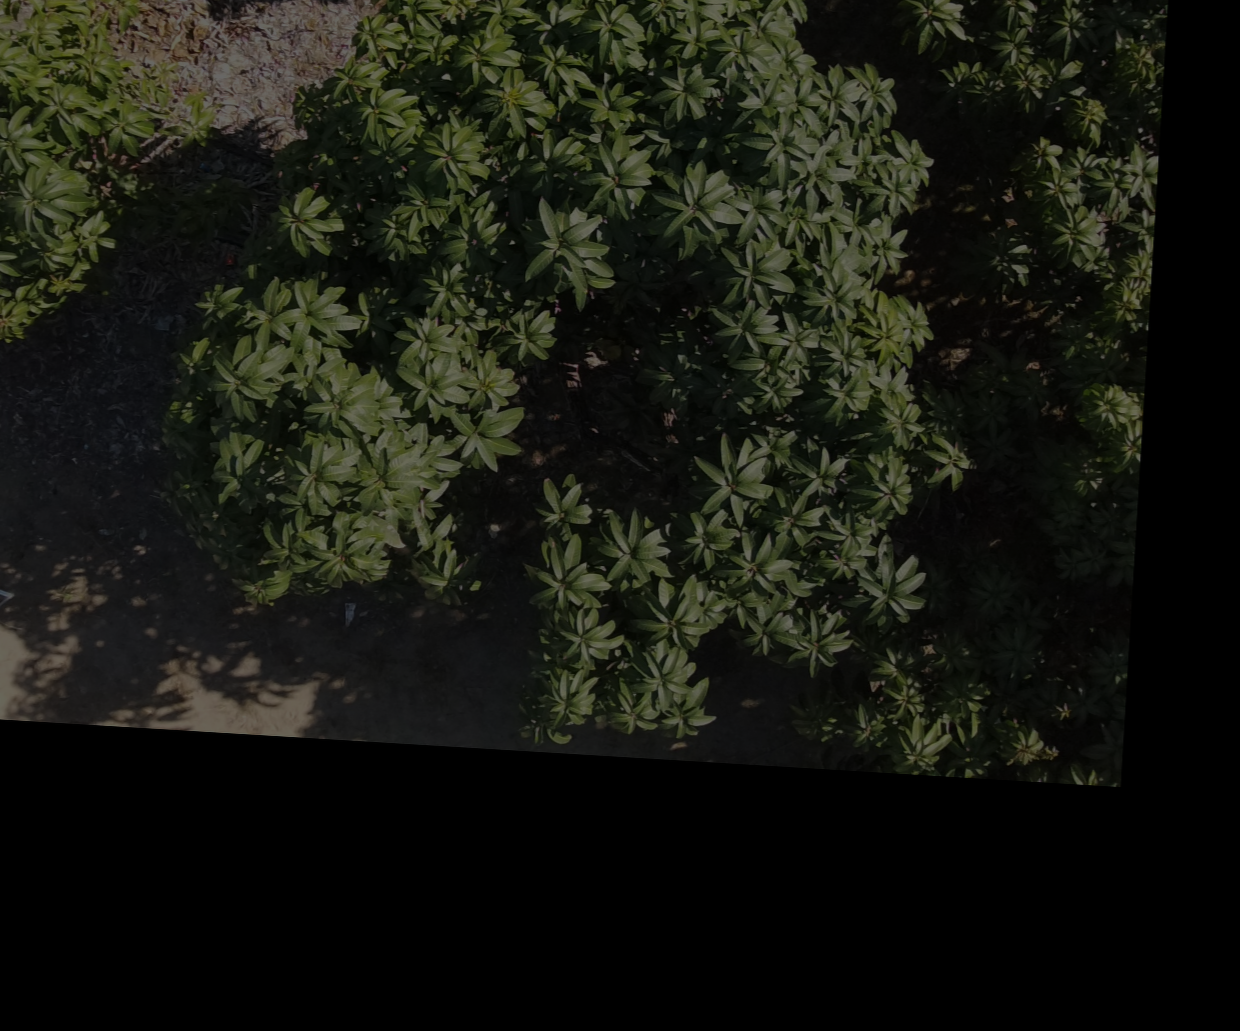flowers: (1003, 726, 1058, 766)
